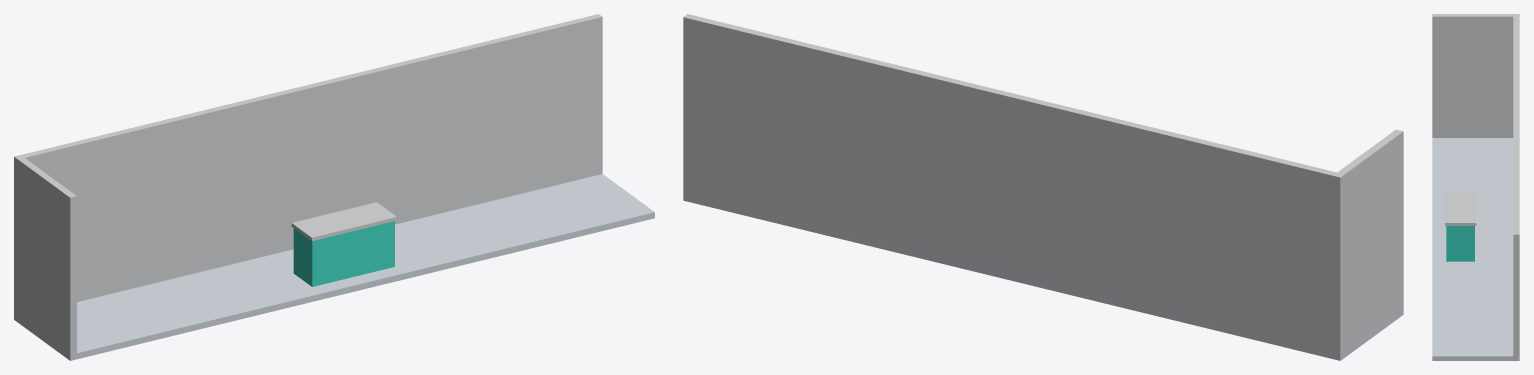
The picture shows the model from 3 angles, left to right: view 1: azimuth 30°, elevation 25°; view 2: azimuth 150°, elevation 25°; view 3: azimuth 270°, elevation 25°; orthographic projection. The views are drawn at different scales.
Visible parts, largest first — view 1: Exhibition Booth Concept; view 2: Exhibition Booth Concept; view 3: Exhibition Booth Concept.
Boxes of the visible parts, x1,y1,x2,y2 form: Exhibition Booth Concept: (14, 14, 654, 360); Exhibition Booth Concept: (683, 14, 1403, 360); Exhibition Booth Concept: (1432, 14, 1519, 360).
Size of the model in its own units: 12 by 3.2 by 2.
